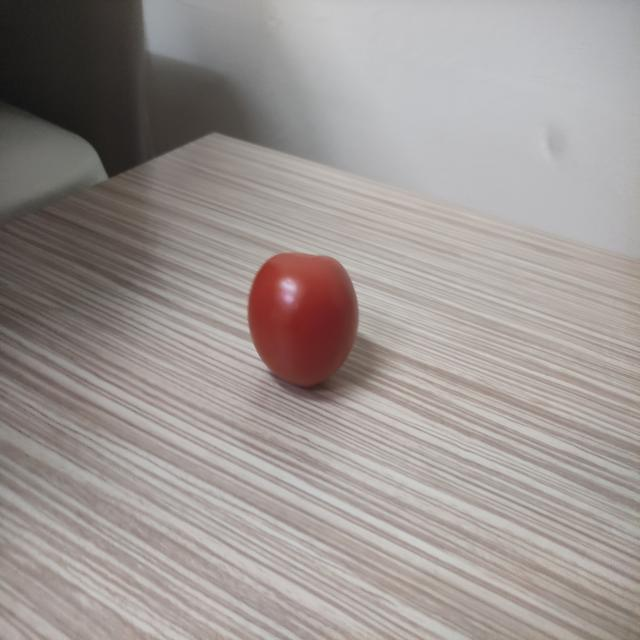kirmizi: (240, 236, 368, 398)
